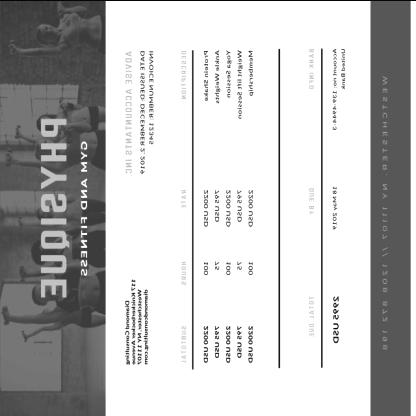Paragraph: (37, 113, 91, 302), (123, 46, 157, 178), (304, 44, 350, 132), (122, 275, 152, 369), (380, 72, 390, 351), (306, 291, 342, 345), (305, 180, 341, 233)
Table: (178, 46, 258, 368)
